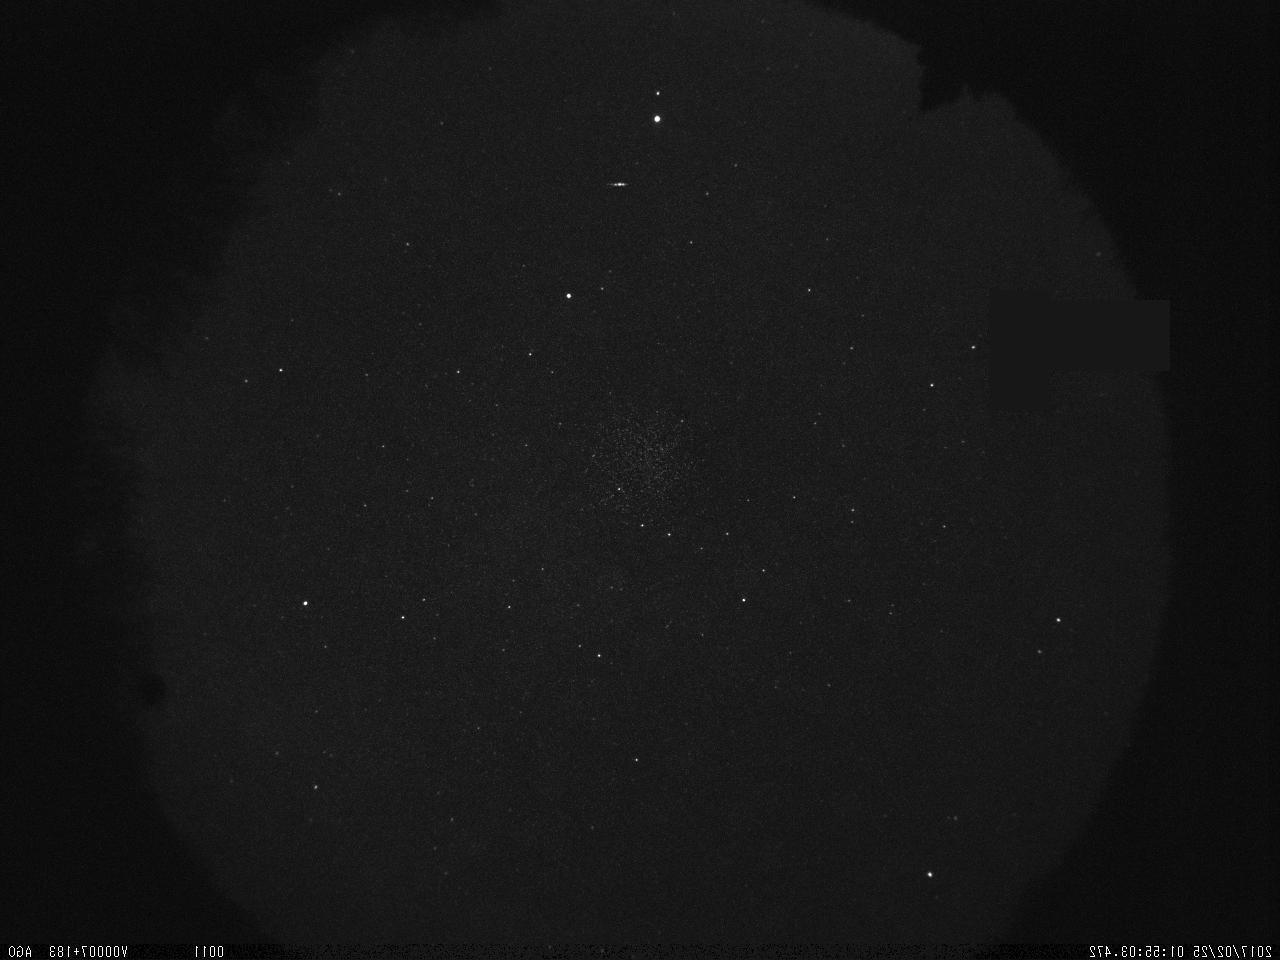meteor: (598, 173, 631, 193)
